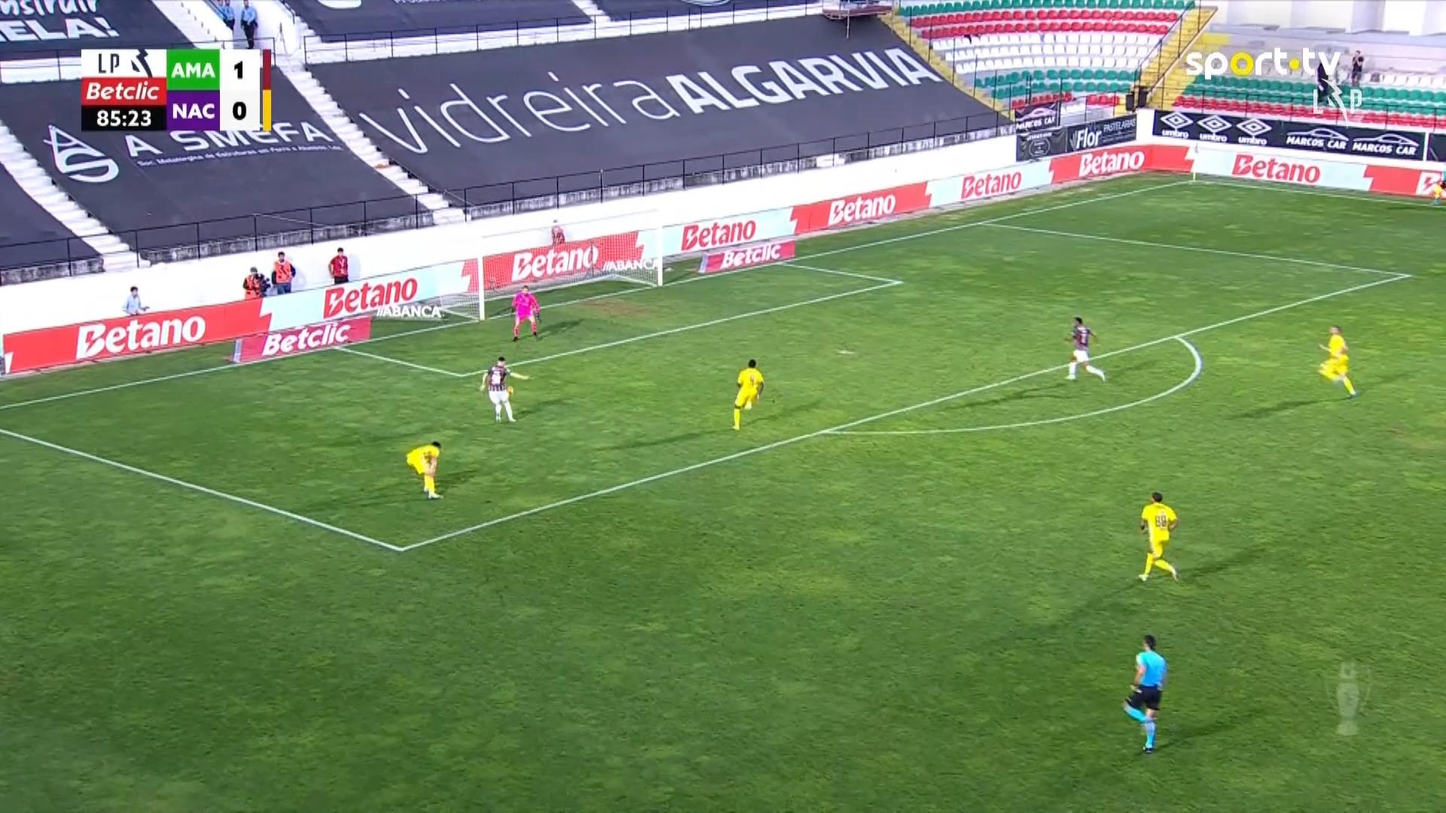ball: (505, 387, 512, 398)
goalkeeper: (510, 285, 541, 341)
player: (1136, 490, 1179, 583), (479, 355, 529, 422), (1316, 324, 1356, 397), (1064, 315, 1106, 382), (731, 358, 764, 430), (404, 440, 443, 499)
referee: (1121, 633, 1167, 753)
